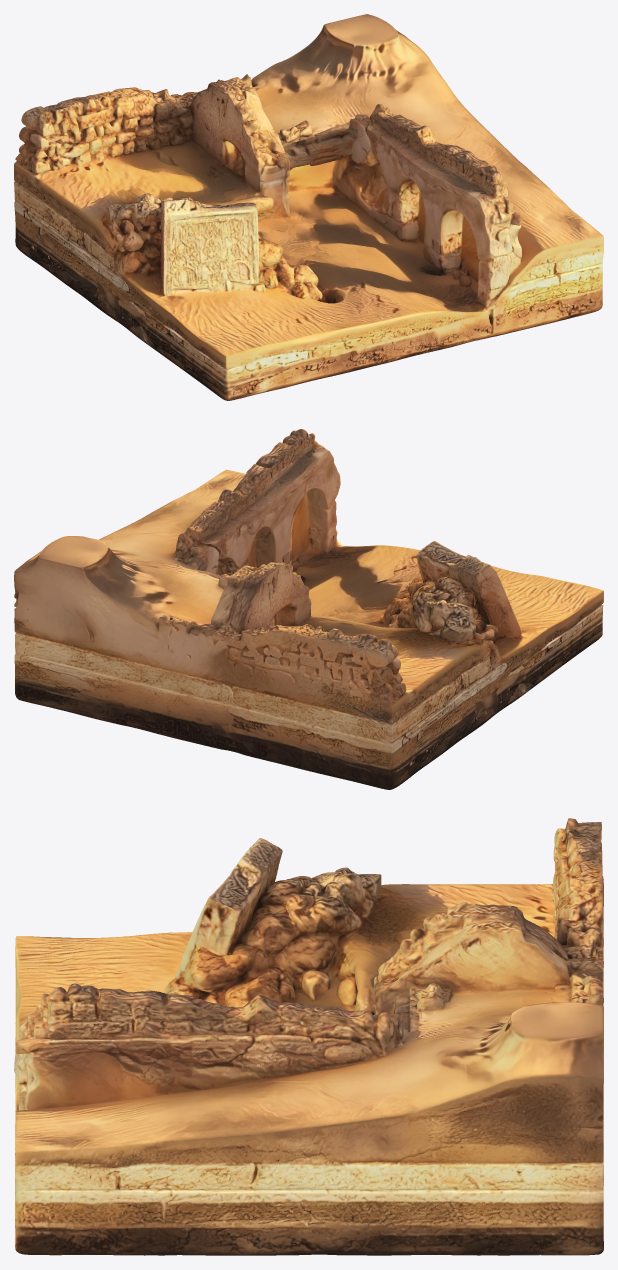
Rendered from base_basic_shaded.glb.
The picture shows the model from 3 angles, top to bottom: view 1: azimuth 30°, elevation 25°; view 2: azimuth 150°, elevation 25°; view 3: azimuth 270°, elevation 25°; orthographic projection. The views are drawn at different scales.
Visible parts, largest first — view 1: model; view 2: model; view 3: model.
Boxes of the visible parts, <box> form: model: <box>14,14,603,400</box>; model: <box>14,429,603,789</box>; model: <box>14,818,603,1255</box>.
Size of the model in its own units: 1.88 by 0.7176 by 1.82.
Materials: 1 (1 with a texture image).
